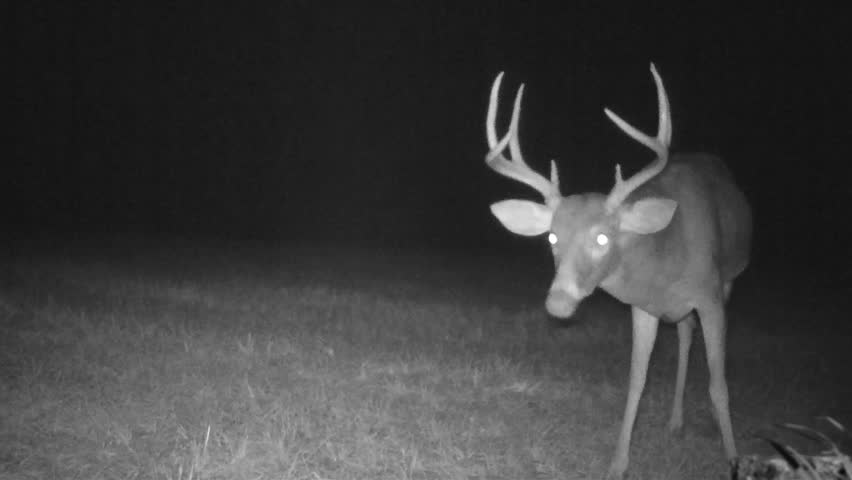deer: (472, 64, 801, 413)
